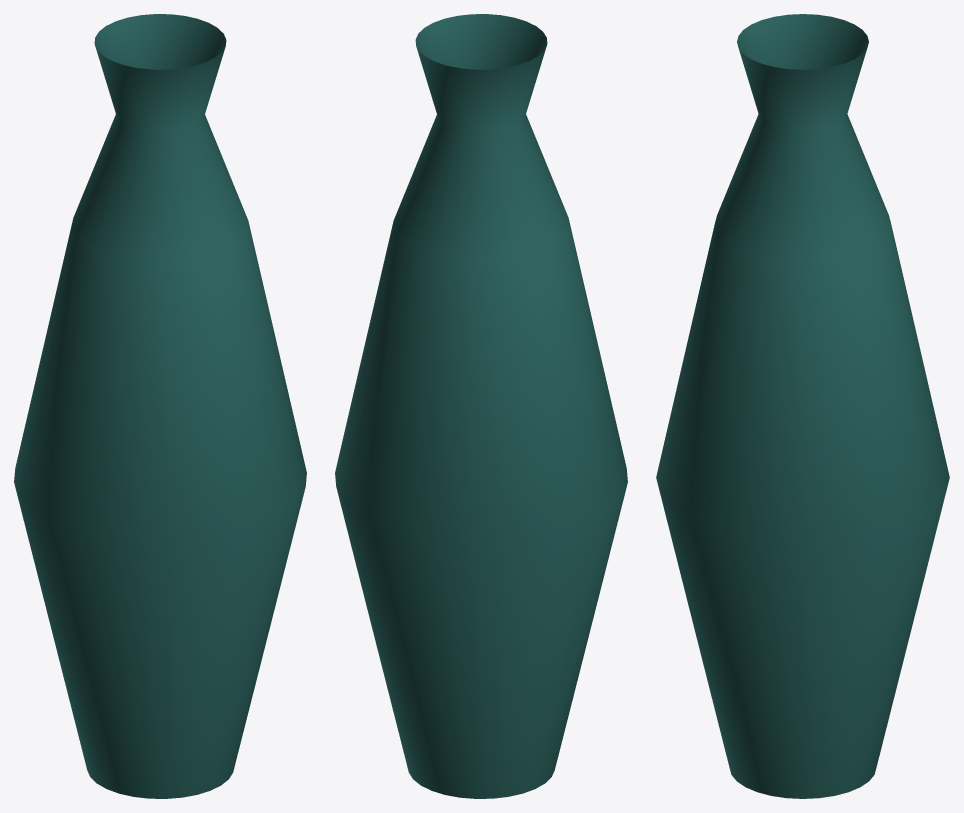
Rendered from ATL-VAS-tall.glb.
3 renders of one model, left to right at view 1: azimuth 30°, elevation 25°; view 2: azimuth 150°, elevation 25°; view 3: azimuth 270°, elevation 25°, orthographic.
Visible parts, largest first — view 1: ATL-VAS-tall; view 2: ATL-VAS-tall; view 3: ATL-VAS-tall.
Part boxes in pixels (left/top/right/bottom): ATL-VAS-tall: left=14, top=14, right=306, bottom=798; ATL-VAS-tall: left=335, top=14, right=627, bottom=798; ATL-VAS-tall: left=656, top=14, right=949, bottom=798.
Bounding box in the file's own units: 0.22 × 0.6 × 0.22.
